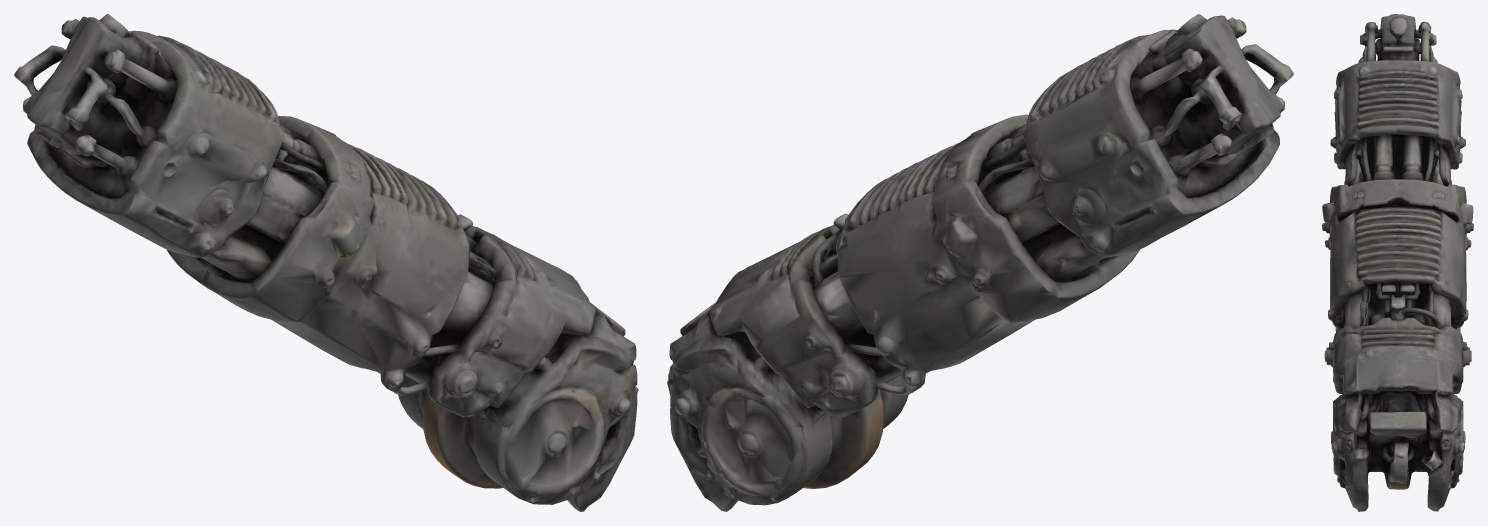
File: tentacle.glb
The picture shows the model from 3 angles, left to right: view 1: azimuth 30°, elevation 25°; view 2: azimuth 150°, elevation 25°; view 3: azimuth 270°, elevation 25°; orthographic projection. The views are drawn at different scales.
Visible parts, largest first — view 1: tripo_node_4b68890e-bb9f-4fd5-9f8b-5cce017d3013; view 2: tripo_node_4b68890e-bb9f-4fd5-9f8b-5cce017d3013; view 3: tripo_node_4b68890e-bb9f-4fd5-9f8b-5cce017d3013.
Part boxes in pixels (x1,y1,x2,y2): tripo_node_4b68890e-bb9f-4fd5-9f8b-5cce017d3013: (14, 14, 638, 511); tripo_node_4b68890e-bb9f-4fd5-9f8b-5cce017d3013: (667, 14, 1293, 511); tripo_node_4b68890e-bb9f-4fd5-9f8b-5cce017d3013: (1322, 14, 1473, 511).
Size of the model in its own units: 0.9996 by 0.9562 by 0.3649.
Materials: 1 (1 with a texture image).
